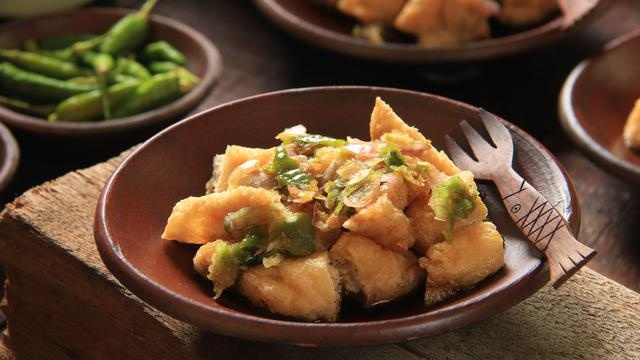tahu_gejrot: (159, 94, 504, 323)
